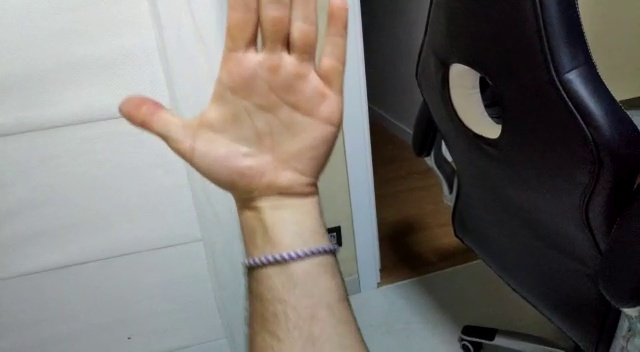Palm: (119, 1, 349, 216)
